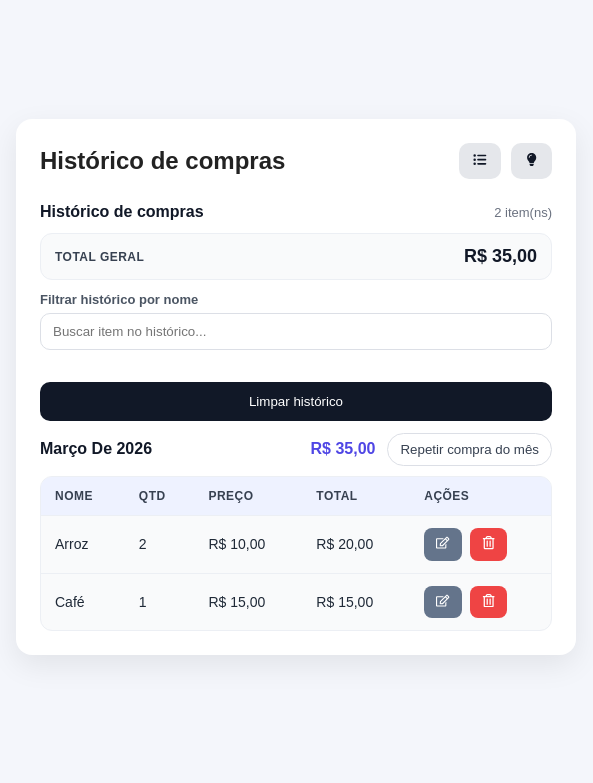
Test: Shopping app › repeats a month purchase into the shopping list
Click the button "Repetir compra do mês". click: (470, 450)
box: [388, 433, 552, 466]
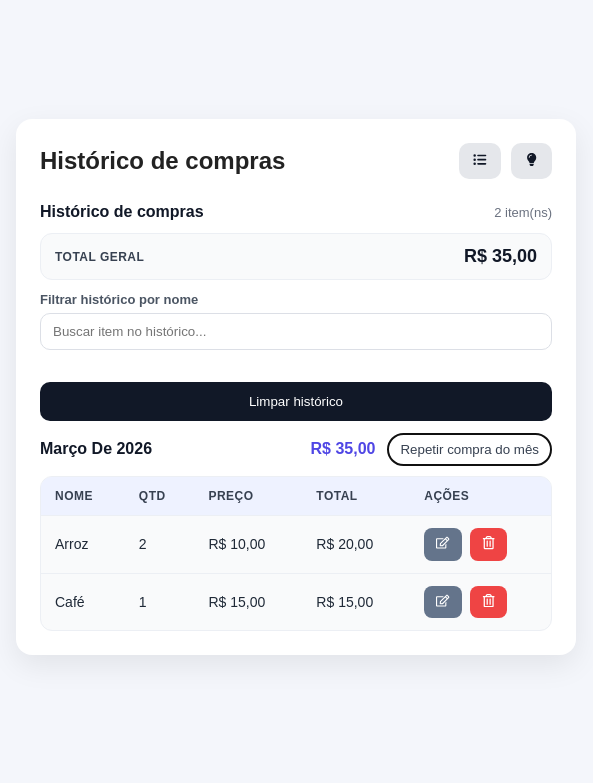
Click the button named "Ir para lista". click: (480, 161)
box: [459, 143, 501, 179]
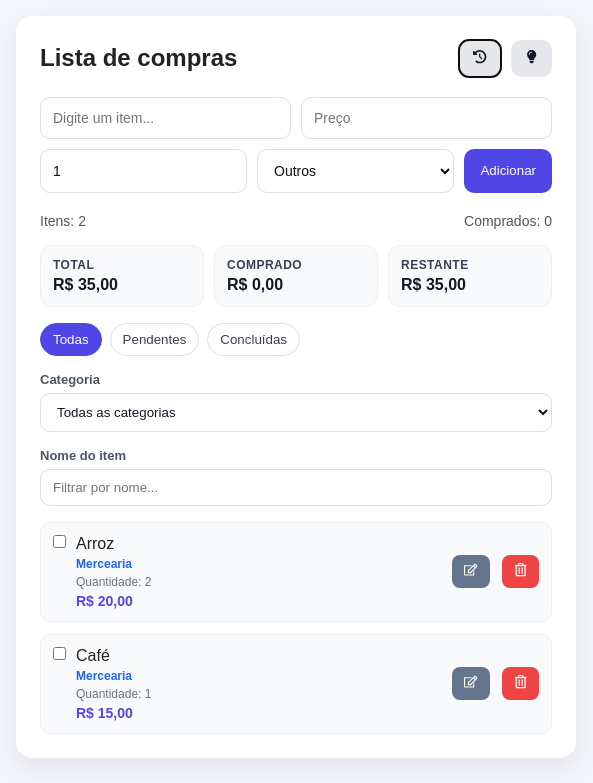
expect the text "Arroz" is shown: met, box [76, 535, 114, 552]
expect the text "Quantidade: 2" is shown: met, box [76, 575, 151, 589]
expect the number of checkboxes is 2: met, box [53, 535, 66, 548]; [53, 647, 66, 660]
